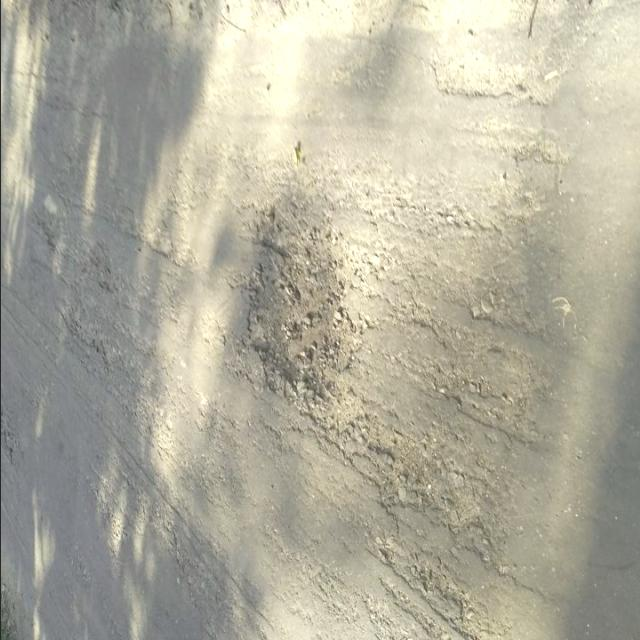pothole: (232, 200, 374, 428), (391, 424, 507, 545), (370, 536, 502, 640), (413, 317, 517, 419), (37, 190, 75, 264), (93, 242, 125, 320)
